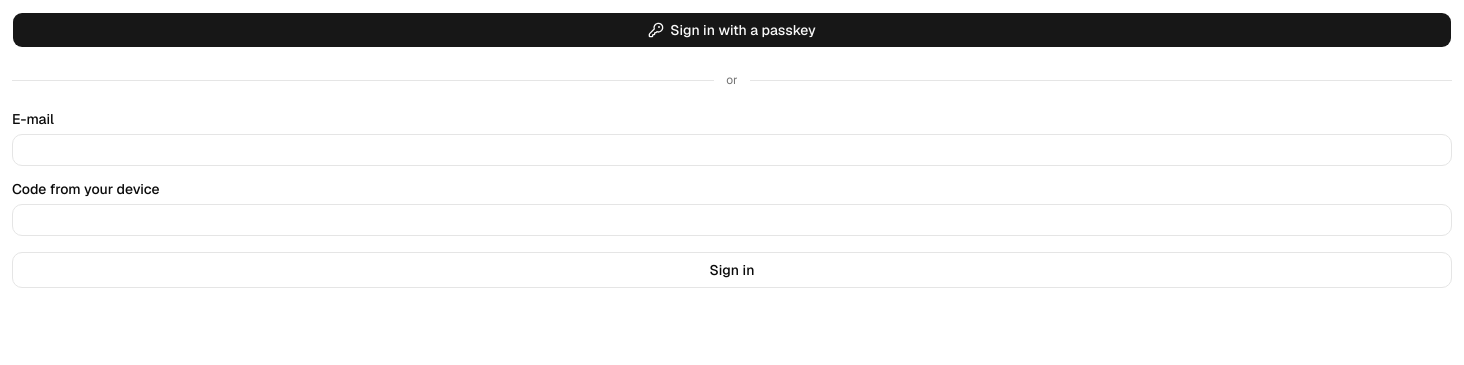
Test: SignInForm › shows one refusal and stays on the page
Type "ada@example.com" into the field labelled "E-mail" at (732, 150), box [12, 134, 1452, 166]
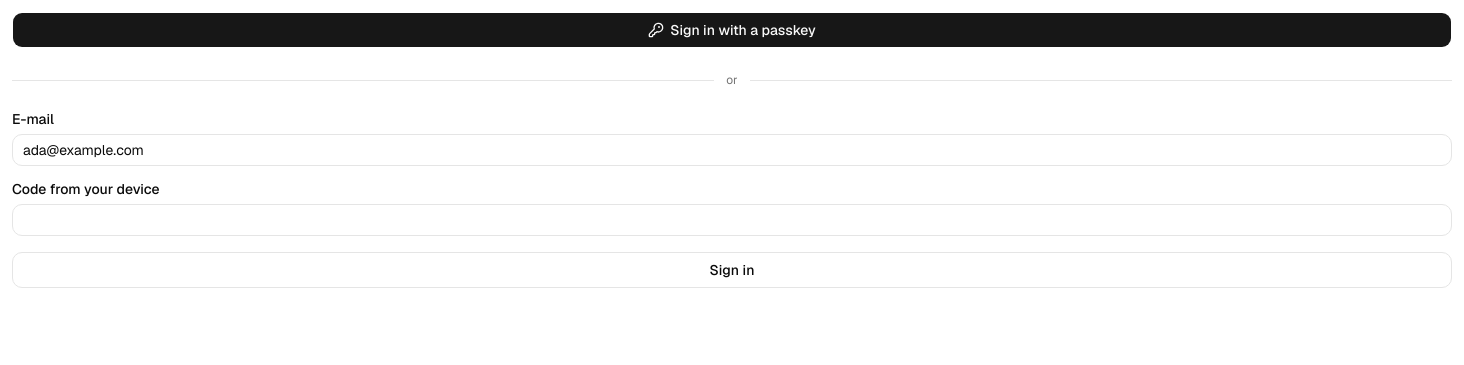
Type "123456" into the field labelled "Code from your device" at (732, 220), box [12, 204, 1452, 236]
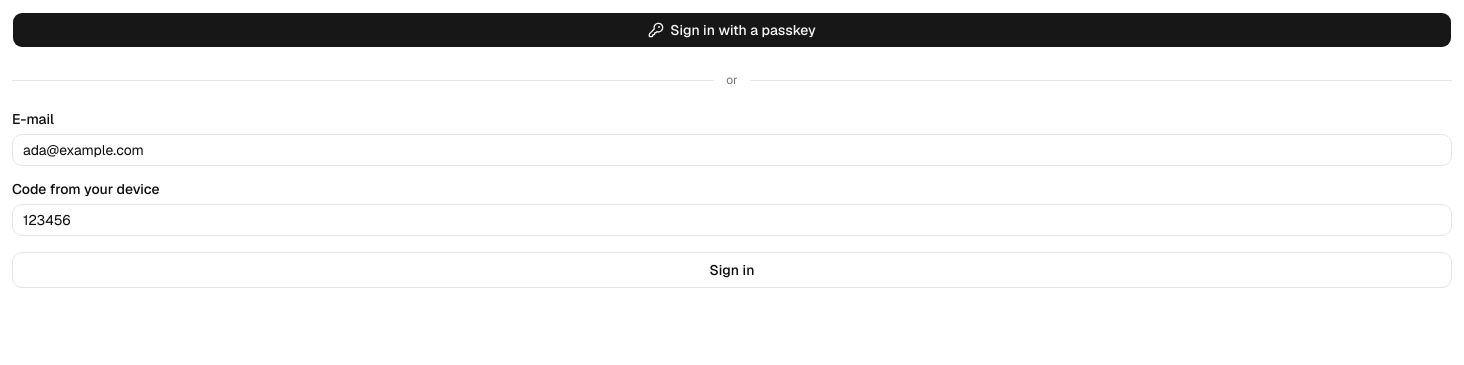
Click the button "Sign in" at (732, 270), box [12, 252, 1452, 288]
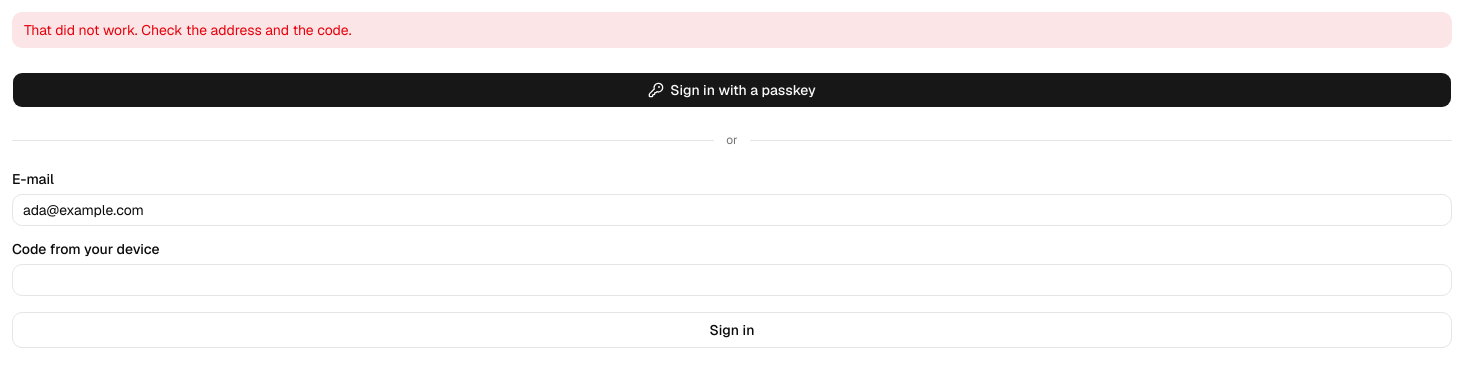
Now the message reads "That did not work. Check the address and the code.", box [24, 21, 352, 39]
